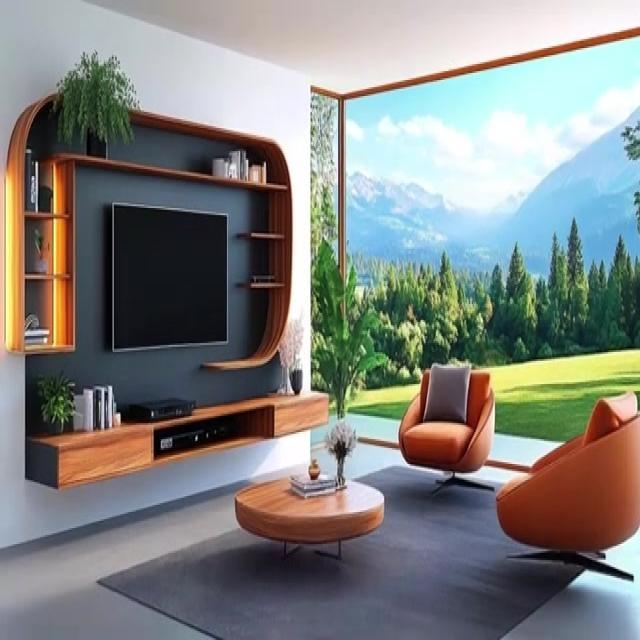obstacle: (21, 393, 330, 490), (495, 389, 639, 582), (234, 473, 384, 560), (398, 362, 495, 494)
